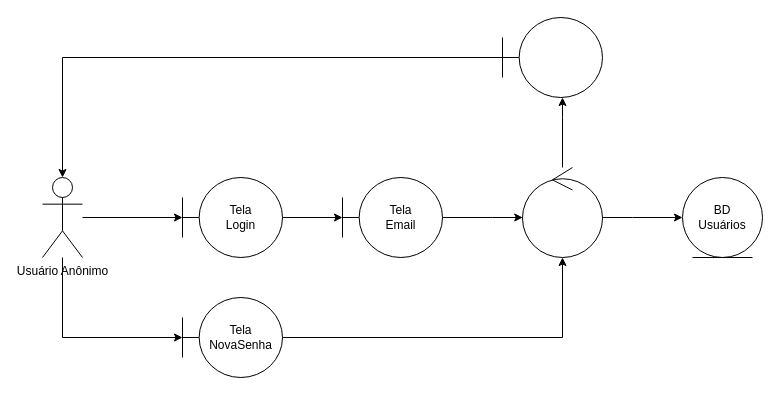
The diagram is 780 pixels wide and 395 high, and some of its shapes have lost their labels. The centre of each missing label's shape, as x and y in pixels:
Controlador TrocarSenha: the point at 562,212
Sistema Email: the point at 552,57
